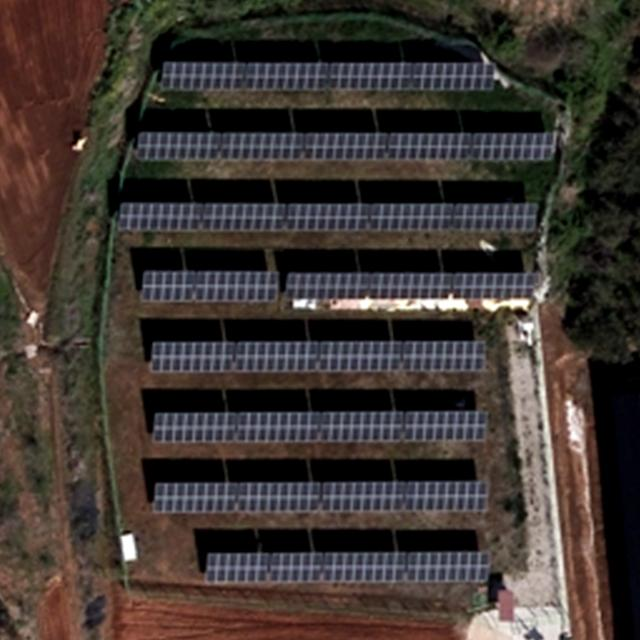panel: (118, 196, 537, 235), (134, 126, 560, 161), (149, 337, 489, 375), (149, 409, 493, 446), (151, 478, 489, 514), (159, 56, 497, 91), (203, 549, 493, 582), (282, 270, 539, 305), (138, 269, 282, 304)
